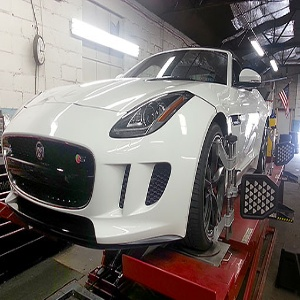tire: (186, 117, 235, 247), (257, 121, 269, 175)
